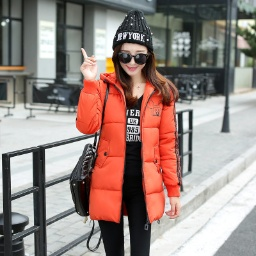face: (110, 40, 155, 78)
